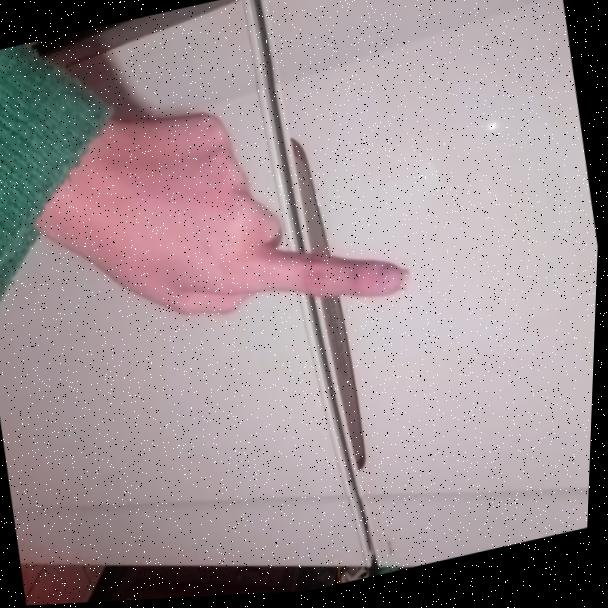one: (77, 65, 428, 367)
